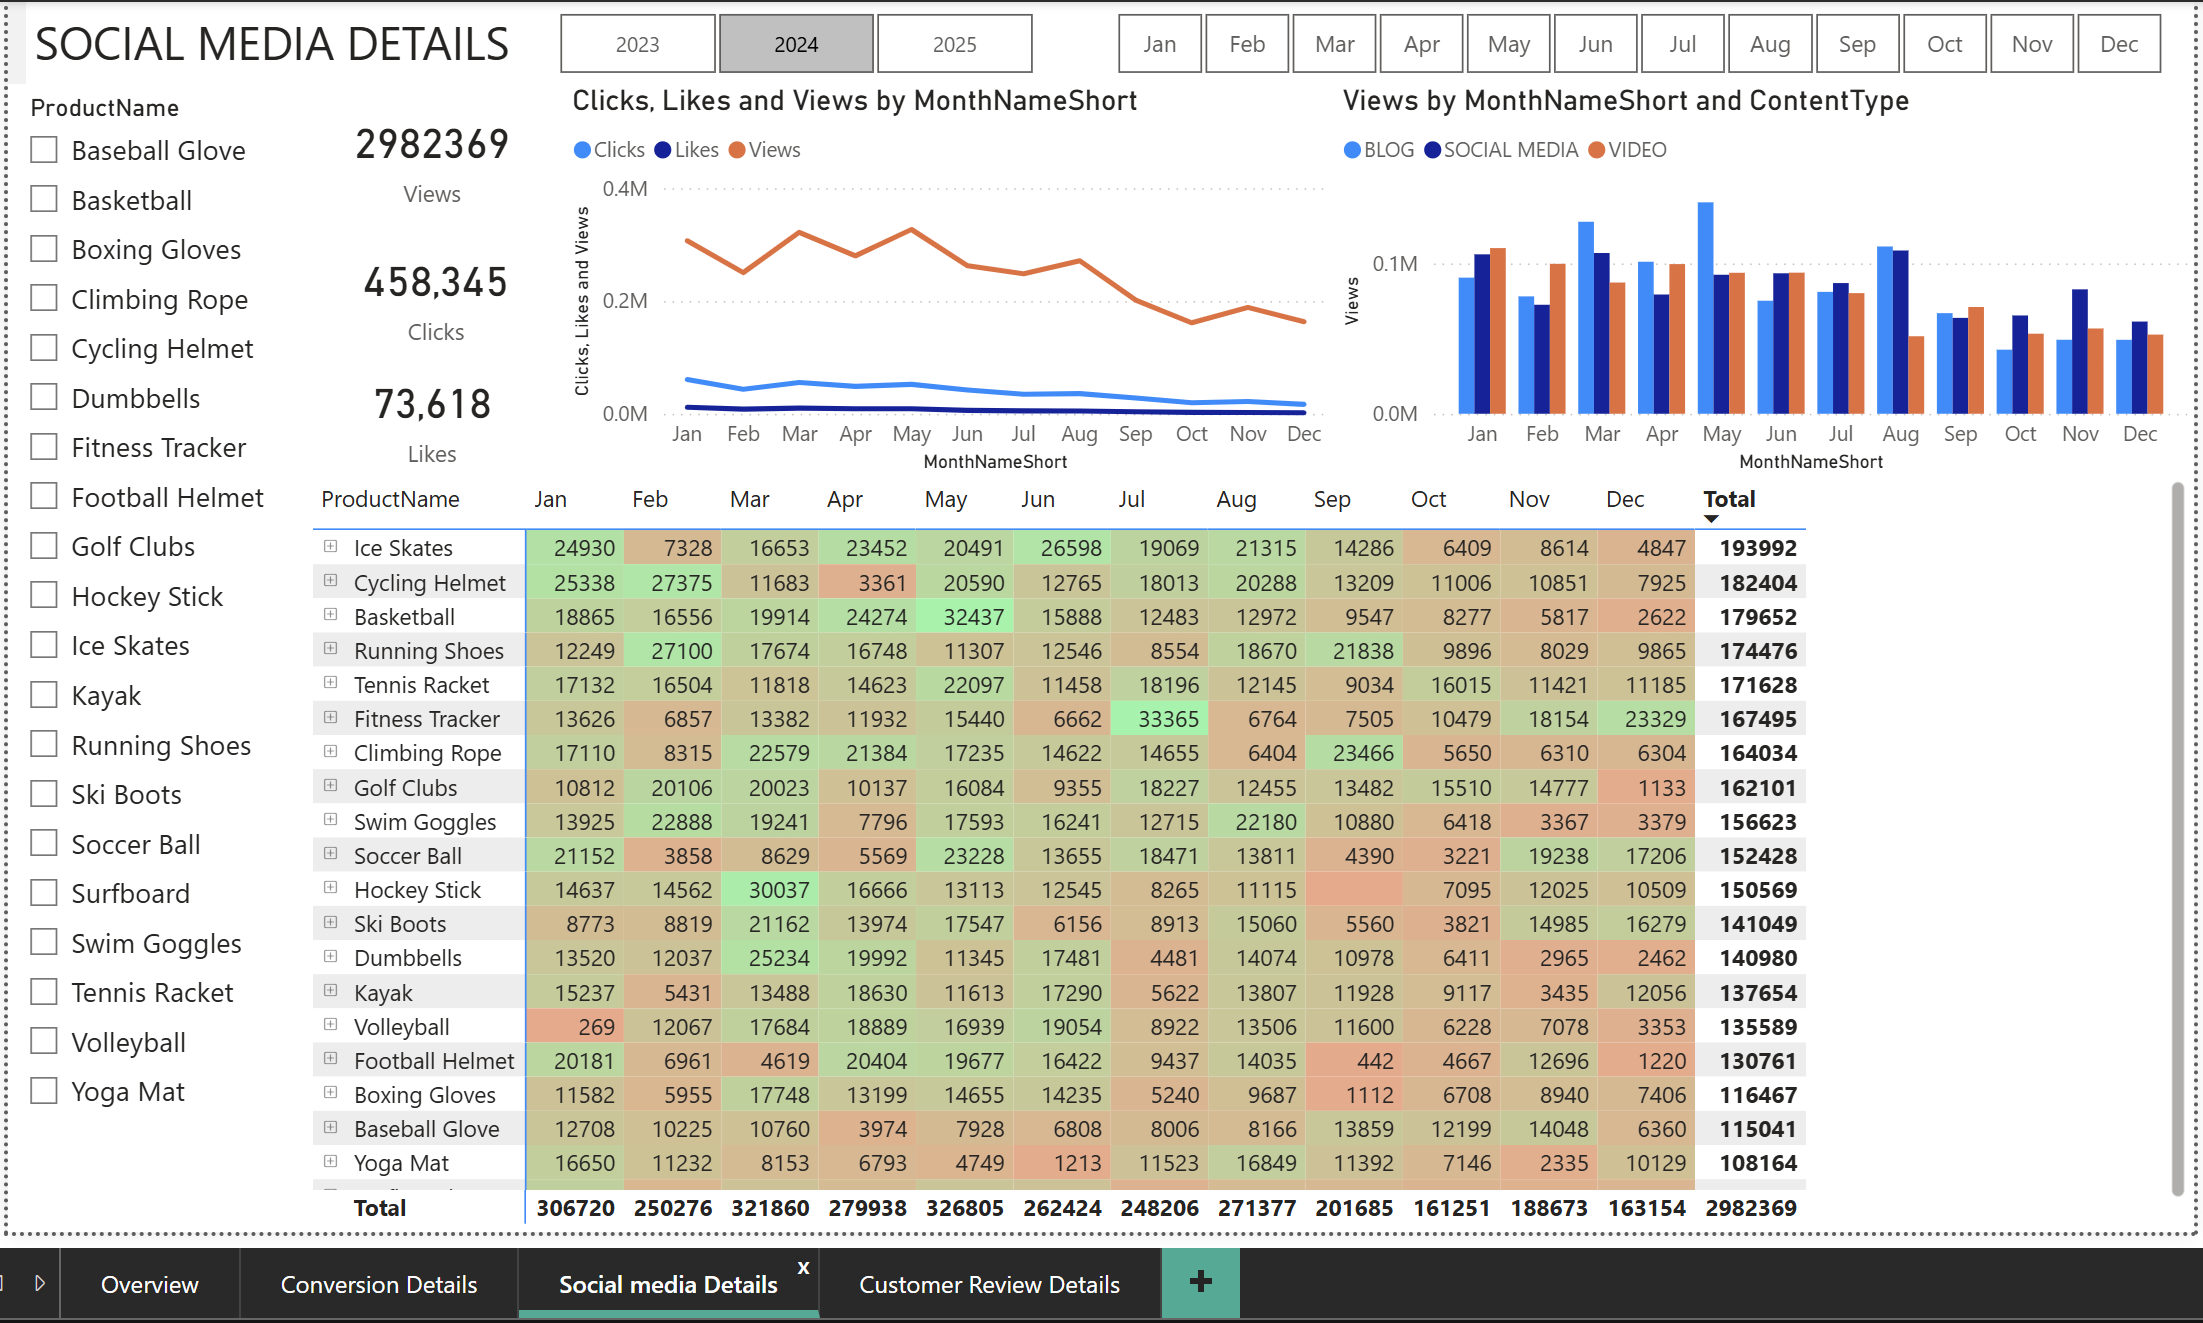

Layout of this report page (visuals, bound fields, positions):
{"tool":"powerbi","page":{"name":"Social media Details","canvas":[1280,720],"ordinal":2},"visuals":[{"type":"textbox","box":[10.2,0,1269.8,48.4],"z":0},{"type":"slicer","fields":{"Values":["dim_products.ProductName"]},"box":[0,48.4,173.4,673.1],"z":1000},{"type":"card","fields":{"Values":["_Calculations.Views"]},"box":[170.9,48,154.5,85.5],"z":2000},{"type":"card","fields":{"Values":["_Calculations.Clicks"]},"box":[173.3,133.5,154.5,76.1],"z":3000},{"type":"card","fields":{"Values":["_Calculations.Likes"]},"box":[170.9,206,154.5,73.8],"z":4000},{"type":"slicer","fields":{"Values":["Calendar.Year"]},"box":[297.1,0,326.4,48.4],"z":5000},{"type":"slicer","fields":{"Values":["Calendar.MonthNameShort"]},"box":[623.4,0,660.4,48.4],"z":6000},{"type":"lineChart","fields":{"Category":["Calendar.MonthNameShort"],"Y":["_Calculations.Clicks","_Calculations.Likes","_Calculations.Views"]},"box":[325.1,48.4,451.3,232],"z":7000},{"type":"clusteredColumnChart","fields":{"Category":["Calendar.MonthNameShort"],"Y":["_Calculations.Views"],"Series":["fact_engagement_data.ContentType"]},"box":[776.4,48.4,504.9,232],"z":8000},{"type":"pivotTable","fields":{"Rows":["dim_products.ProductName","fact_engagement_data.ContentType"],"Columns":["Calendar.MonthNameShort"],"Values":["_Calculations.Views"]},"box":[173.4,275.4,1106.6,444.9],"z":9000}]}

Visuals, with their boxes on the page's 1280x720 design canvas (x1, y1, x2, y2). These are canvas units, not pixel positions in the 2203x1323 screenshot, which may show the page scaled, cropped or inside an application window:
textbox: bbox=[10, 0, 1280, 48]
slicer - dim_products.ProductName: bbox=[0, 48, 173, 722]
card - _Calculations.Views: bbox=[171, 48, 325, 134]
card - _Calculations.Clicks: bbox=[173, 134, 328, 210]
card - _Calculations.Likes: bbox=[171, 206, 325, 280]
slicer - Calendar.Year: bbox=[297, 0, 624, 48]
slicer - Calendar.MonthNameShort: bbox=[623, 0, 1284, 48]
lineChart - Calendar.MonthNameShort x _Calculations.Clicks: bbox=[325, 48, 776, 280]
clusteredColumnChart - Calendar.MonthNameShort x _Calculations.Views: bbox=[776, 48, 1281, 280]
pivotTable - dim_products.ProductName x fact_engagement_data.ContentType: bbox=[173, 275, 1280, 720]
